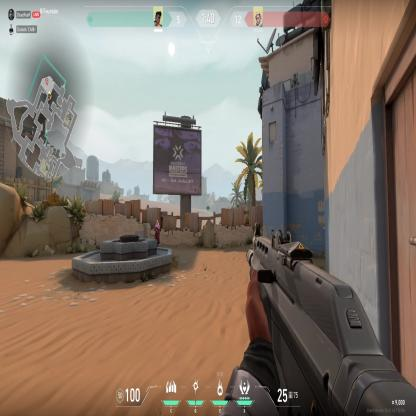enemy: (154, 219, 161, 247)
